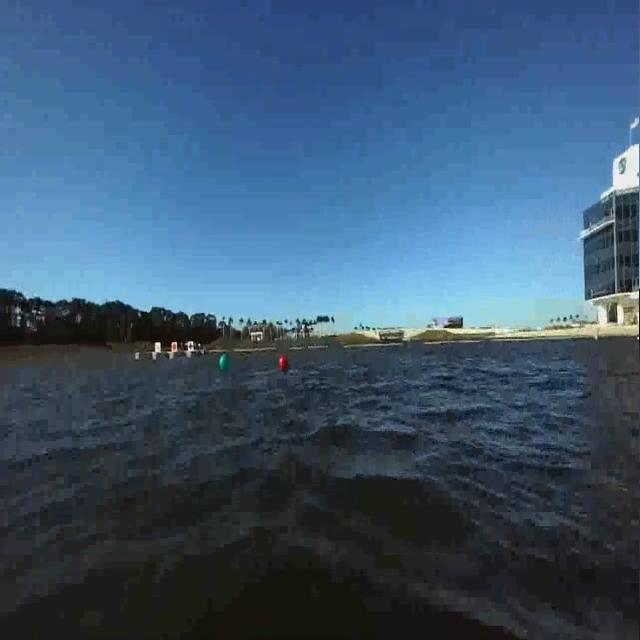green-buoy: (218, 354, 230, 372)
red-buoy: (280, 356, 290, 374)
